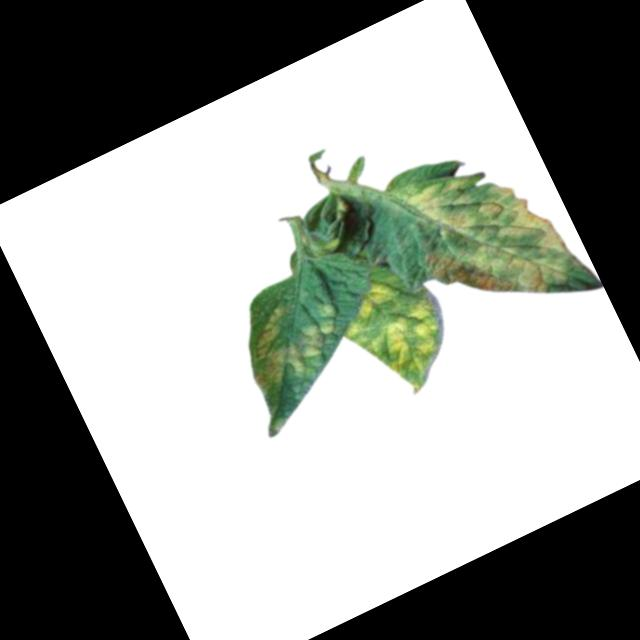Leaf_Mold: (389, 129, 592, 336), (330, 260, 466, 406), (229, 285, 353, 397)
